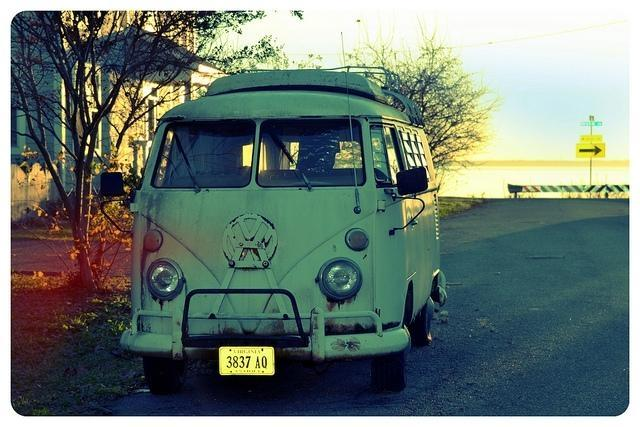bus: (124, 69, 451, 394)
